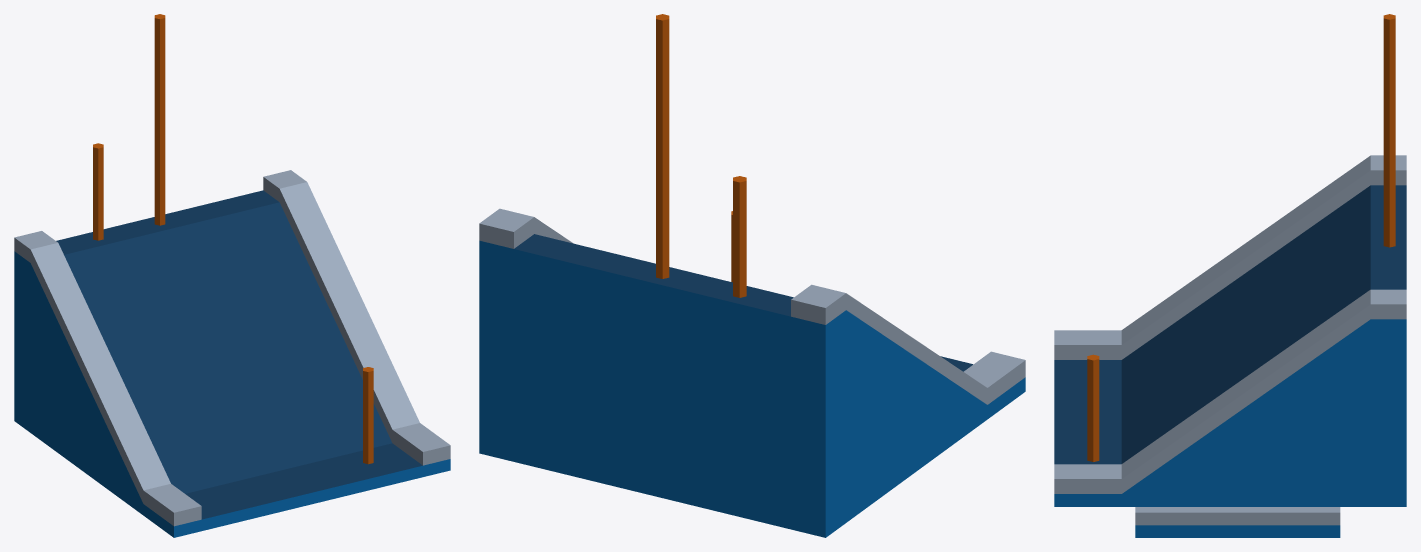
Rendered from Shop_Roof.fbx.
The picture shows the model from 3 angles, left to right: view 1: azimuth 30°, elevation 25°; view 2: azimuth 150°, elevation 25°; view 3: azimuth 270°, elevation 25°; orthographic projection. The views are drawn at different scales.
Parts seen in each view (by area): view 1: Shop_Roof; view 2: Shop_Roof; view 3: Shop_Roof.
Part boxes in pixels (bbox=[...]): Shop_Roof: bbox=[14, 14, 450, 537]; Shop_Roof: bbox=[479, 14, 1025, 537]; Shop_Roof: bbox=[1054, 14, 1406, 537].
Bounding box in the file's own units: 53.14 × 71.53 × 51.19.
